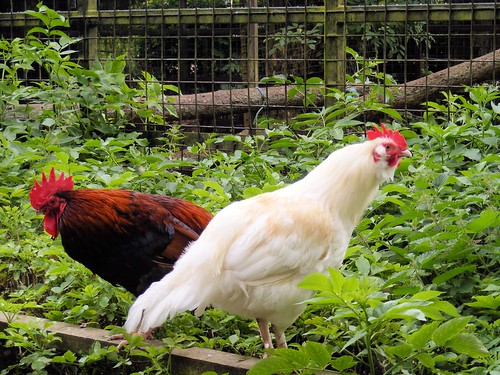chicken: (133, 123, 412, 347), (29, 162, 207, 344)
